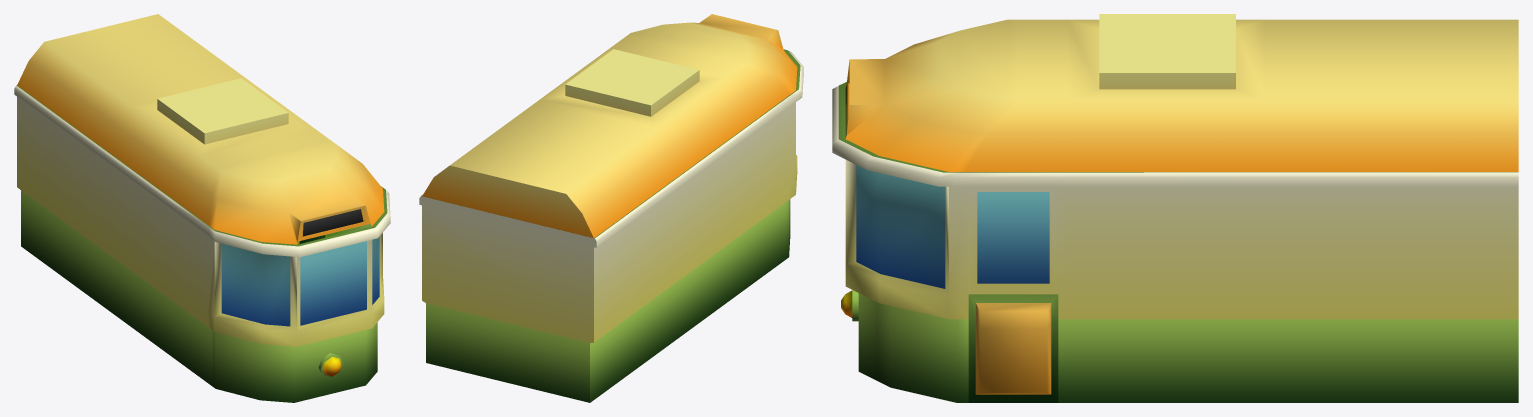
The model's file is Tram.glb.
3 views of the same model, side by side, from view 1: azimuth 30°, elevation 25°; view 2: azimuth 150°, elevation 25°; view 3: azimuth 270°, elevation 25° (orthographic). The views are drawn at different scales.
Visible parts, largest first — view 1: Tram; view 2: Tram; view 3: Tram.
Boxes of the visible parts, <box> form: Tram: <box>14,14,390,402</box>; Tram: <box>419,14,803,402</box>; Tram: <box>832,14,1518,402</box>.
Bounding box in the file's own units: 4.13 × 4.77 × 9.8.
Materials: 1 (1 with a texture image).
